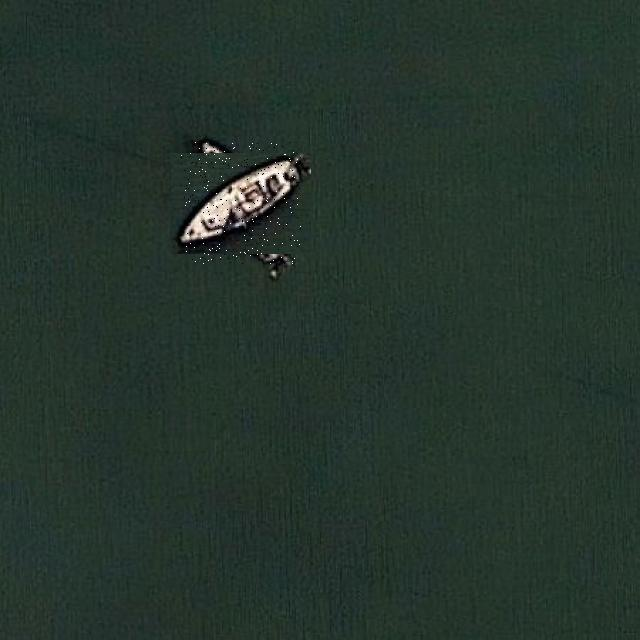boat: (181, 142, 301, 264)
